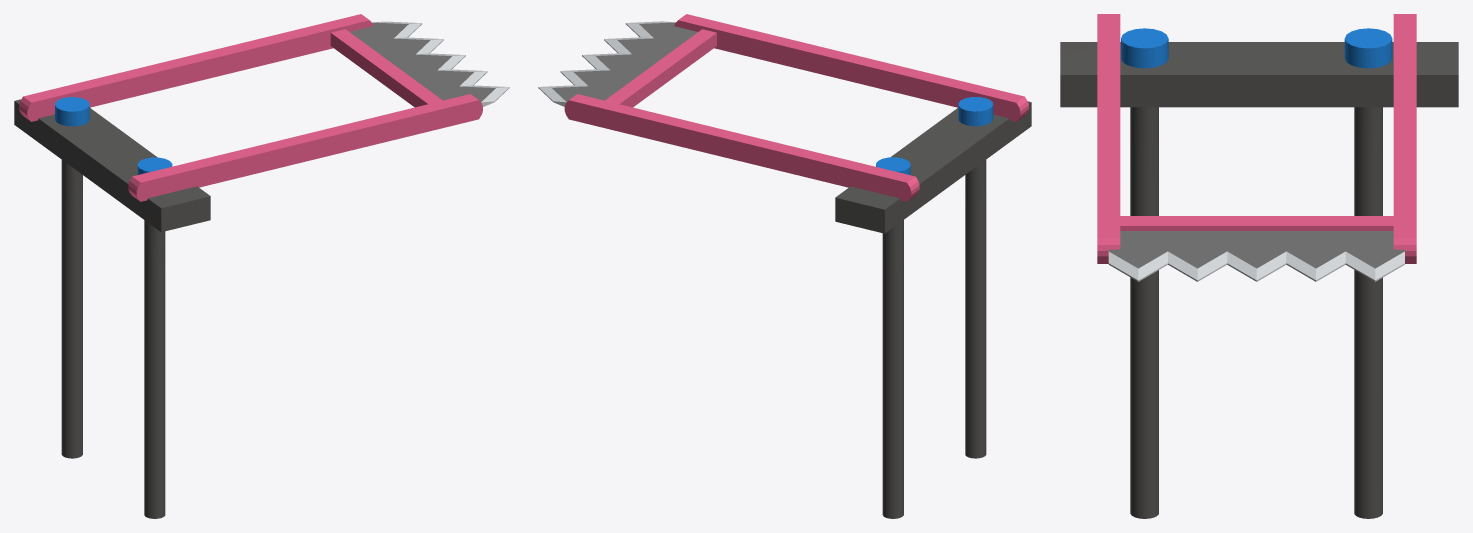
File: trap_06.fbx
3 renders of one model, left to right at view 1: azimuth 30°, elevation 25°; view 2: azimuth 150°, elevation 25°; view 3: azimuth 270°, elevation 25°, orthographic. The views are drawn at different scales.
Visible parts, largest first — view 1: trap_06_asset, trap_06; view 2: trap_06_asset, trap_06; view 3: trap_06, trap_06_asset.
Part boxes in pixels (bbox=[...]): trap_06_asset: bbox=[19, 14, 509, 201]; trap_06: bbox=[14, 97, 210, 518]; trap_06_asset: bbox=[538, 14, 1028, 201]; trap_06: bbox=[835, 97, 1031, 518]; trap_06: bbox=[1060, 28, 1458, 518]; trap_06_asset: bbox=[1097, 14, 1416, 281].
Bounding box in the file's own units: 2306 × 2001 × 1511.
